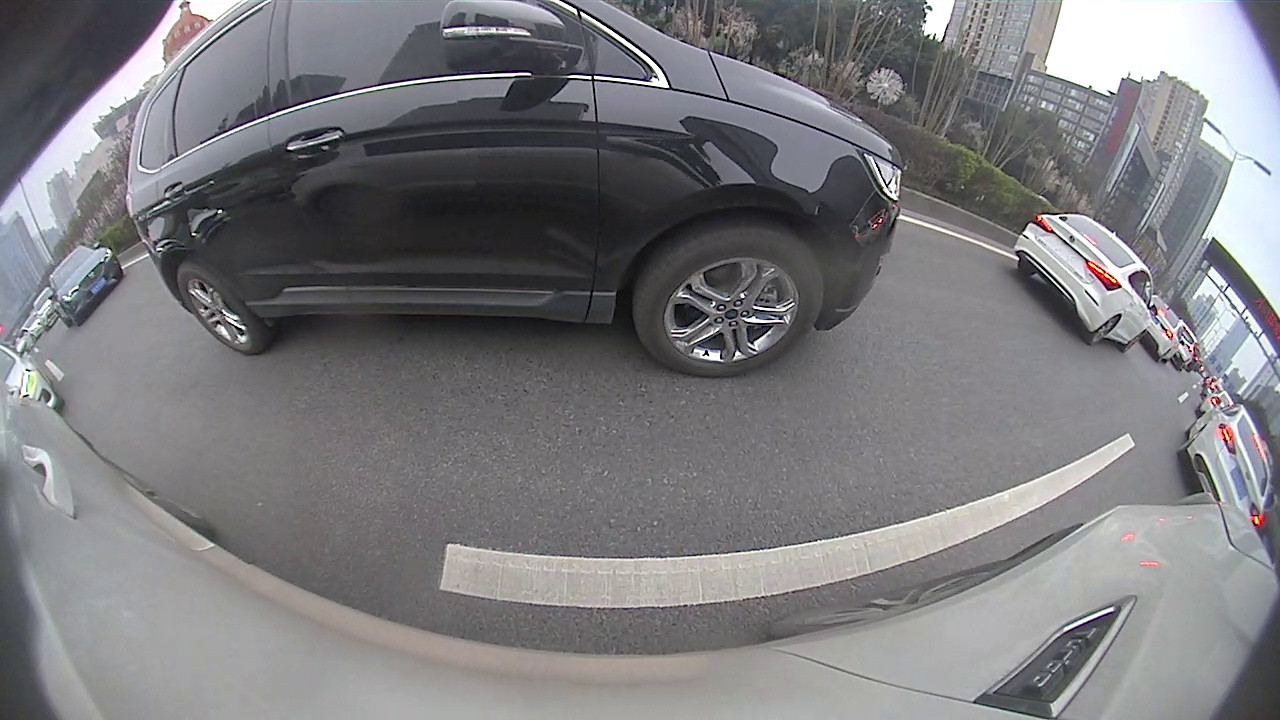car: (124, 2, 905, 378), (1013, 210, 1159, 353), (1176, 397, 1275, 529), (48, 245, 124, 328)
front: (633, 225, 822, 377), (1125, 332, 1146, 353)
rear: (177, 262, 267, 356), (1090, 313, 1121, 346)
